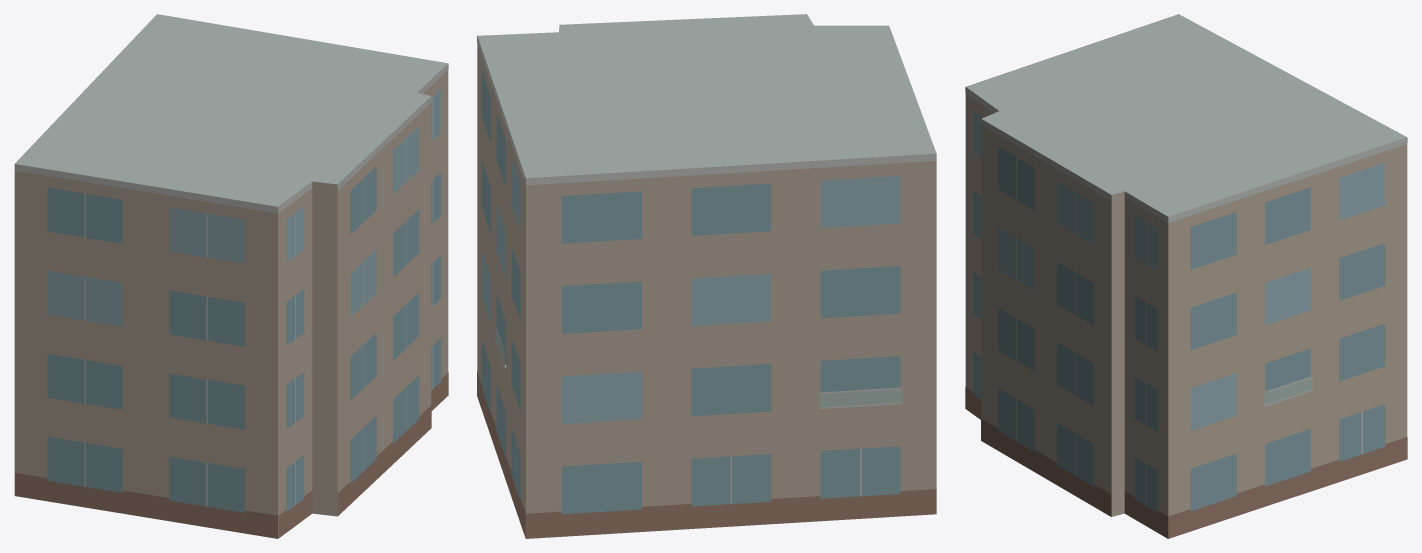
The model's file is survey-upis-32641351.glb.
3 views of the same model, side by side, from view 1: azimuth 30°, elevation 25°; view 2: azimuth 150°, elevation 25°; view 3: azimuth 270°, elevation 25° (orthographic). The views are drawn at different scales.
Parts seen in each view (by area): view 1: survey-upis-32641351.tmp; view 2: survey-upis-32641351.tmp; view 3: survey-upis-32641351.tmp.
Part boxes in pixels (box(x1,y1,x2,y2)): survey-upis-32641351.tmp: box(14, 14, 448, 538); survey-upis-32641351.tmp: box(477, 14, 936, 538); survey-upis-32641351.tmp: box(965, 14, 1407, 538).
Size of the model in its own units: 16.48 by 12.2 by 15.17.
